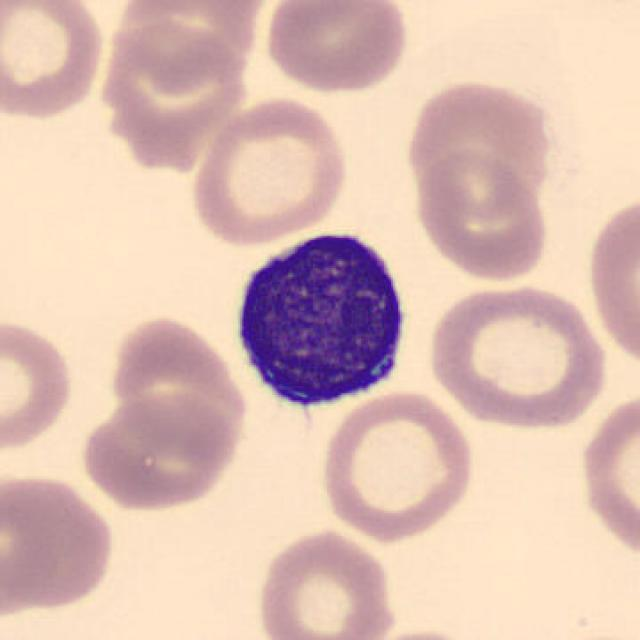Lymphocyte: (221, 217, 420, 427)
RBC: (420, 277, 610, 435), (315, 386, 478, 545), (187, 94, 352, 249), (400, 74, 558, 224), (77, 390, 246, 517), (0, 470, 117, 620), (248, 523, 398, 640), (262, 0, 413, 99), (0, 3, 108, 121), (574, 383, 640, 570), (585, 190, 638, 381), (350, 622, 494, 640)
